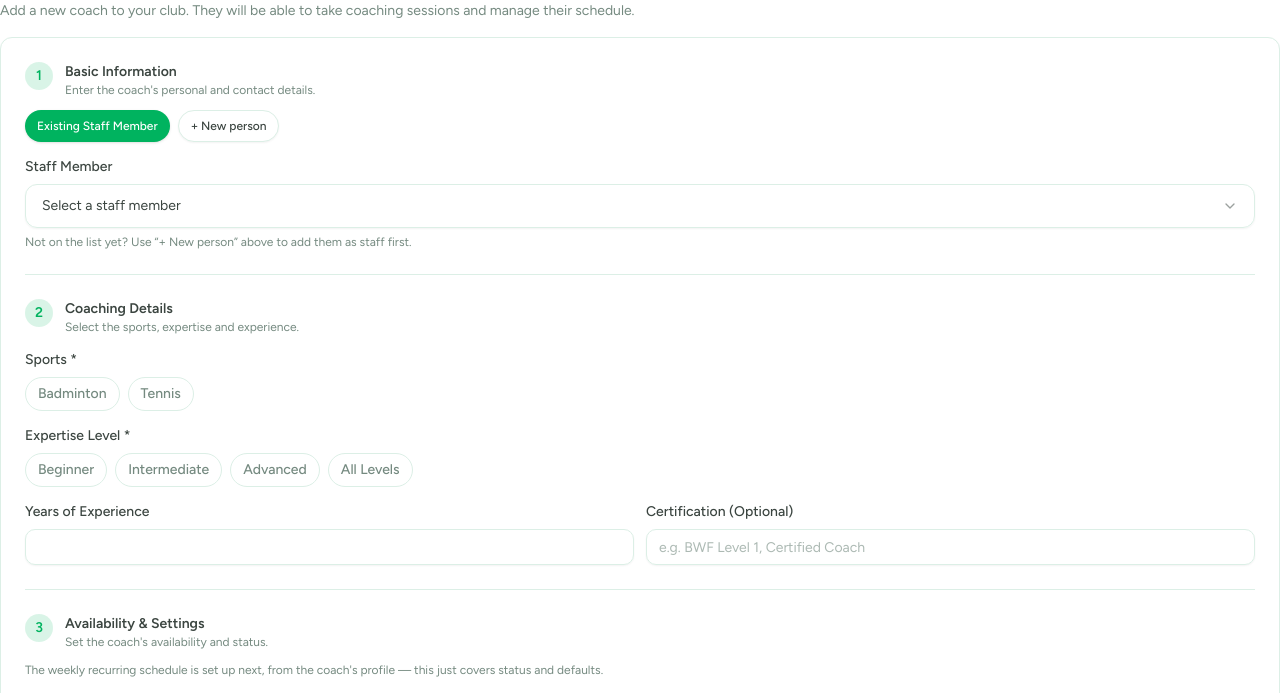
Test: AddCoachPage › submits the picked candidate with sports, expertise and duration, then shows the success screen
Click the dropdown labelled "Select a staff member" at point(111, 206), box [25,184,1255,228]
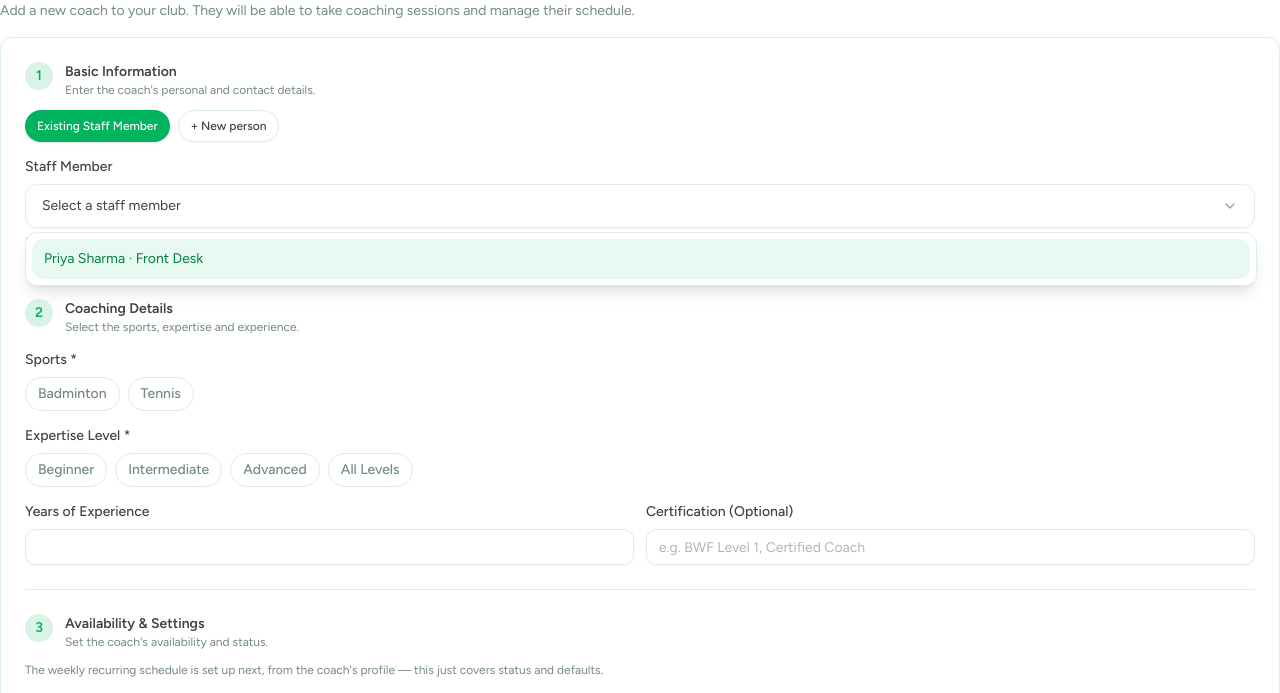
Click the option "Priya Sharma · Front Desk" at point(85, 258), box [32,239,1250,279]
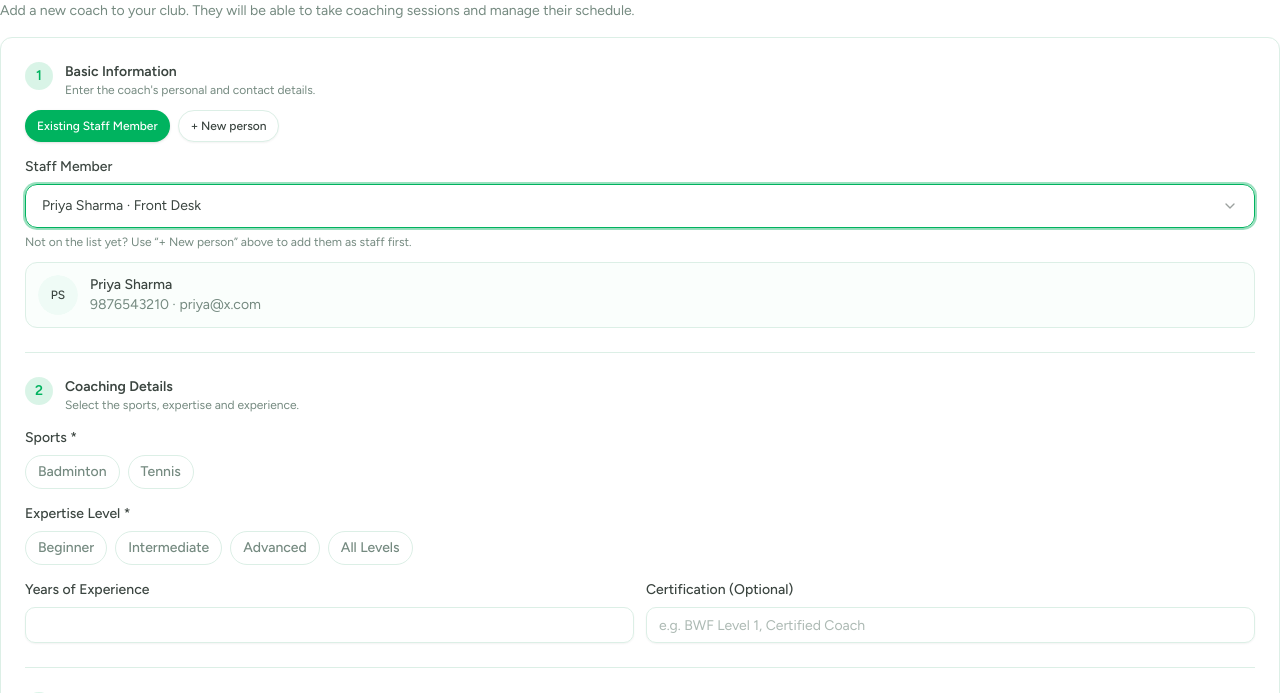
Click the button "Badminton" at point(72, 472), box [25,455,120,489]
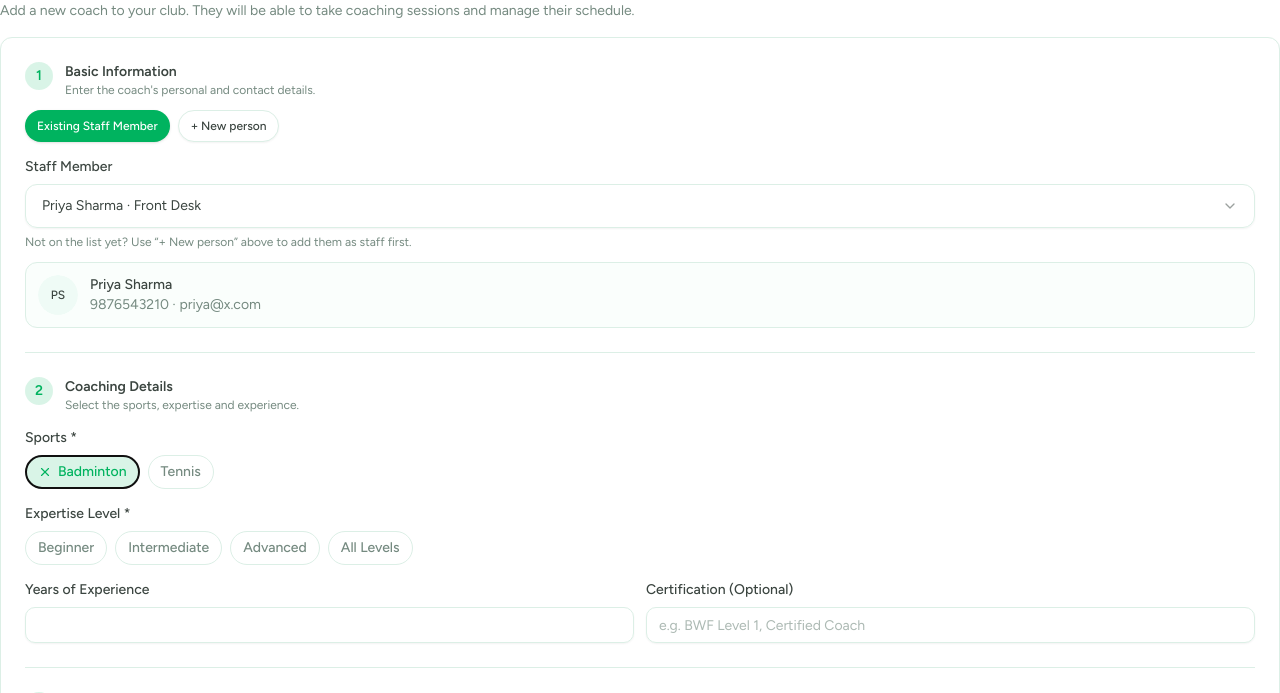
Click the button "Beginner" at point(66, 548), box [25,531,107,565]
(page scrolled)
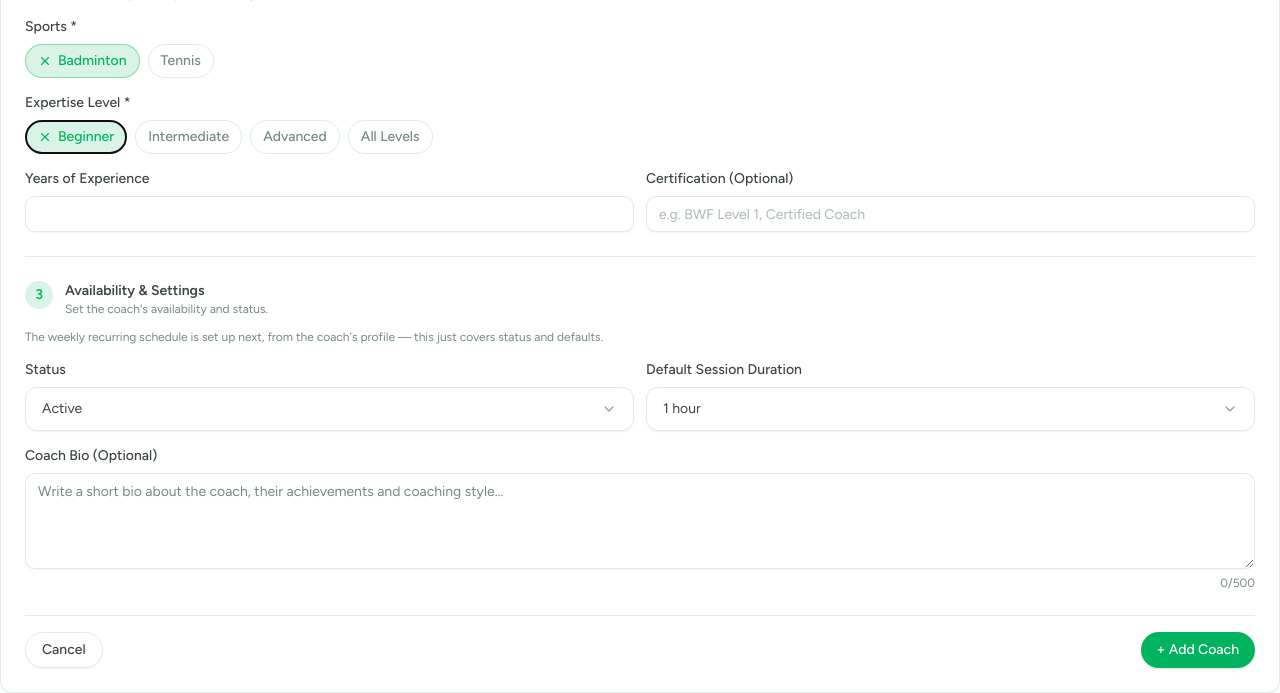
Click the button "+ Add Coach" at point(1198, 650), box [1140,632,1255,668]
(page scrolled)
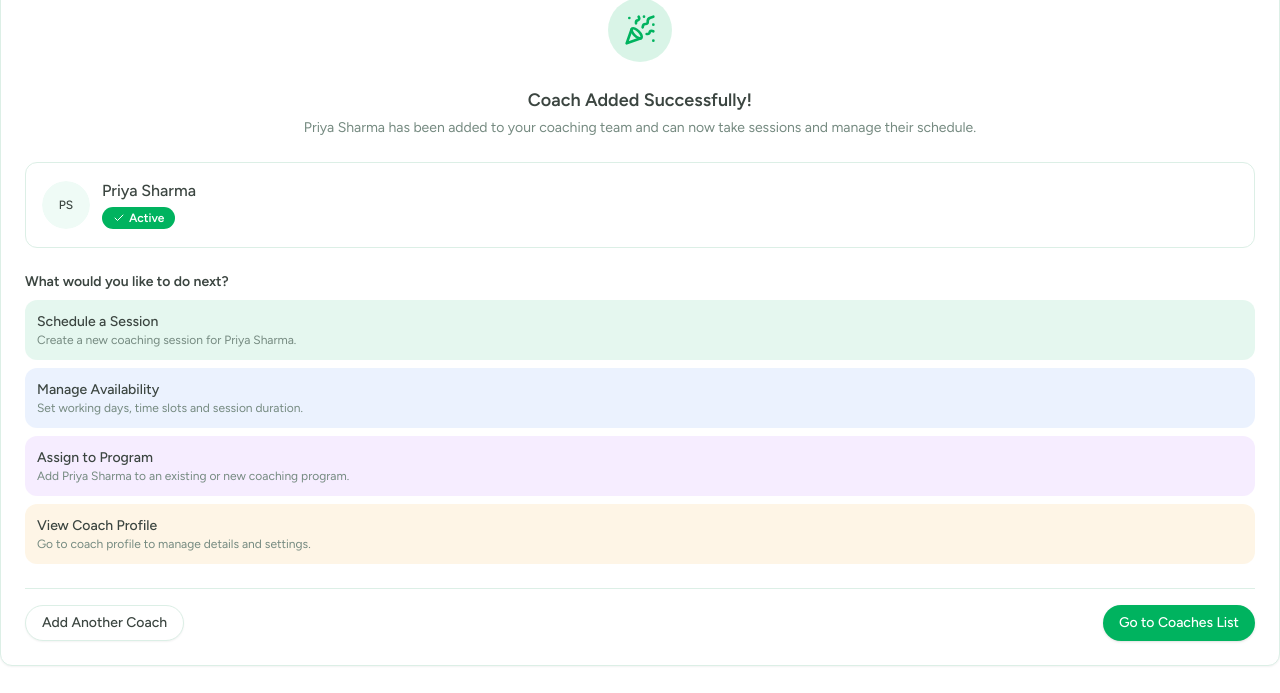
Result: the heading "Coach Added Successfully!" is shown at [528,89,752,111]
Result: the text "Priya Sharma has been added" is shown at [304,119,976,136]
